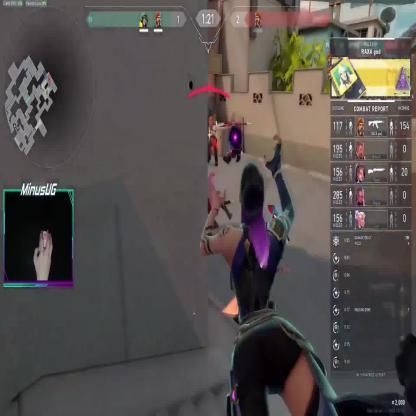enemy: (204, 116, 219, 166)
enemy_head: (208, 117, 214, 128)
